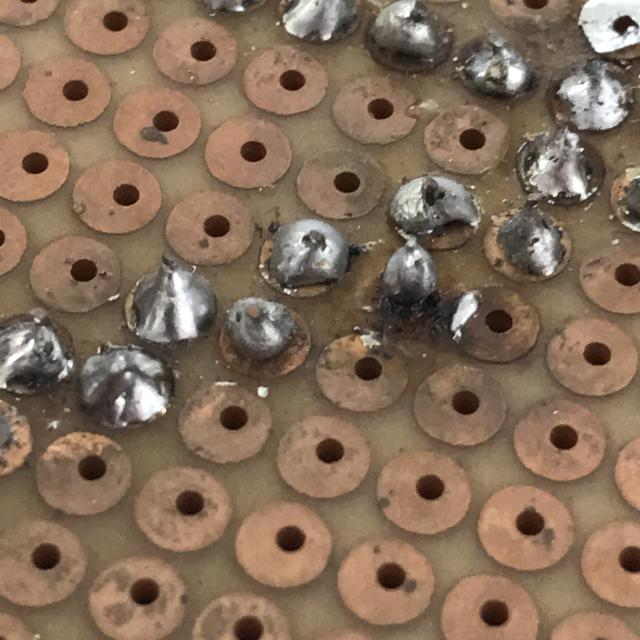good: (66, 333, 186, 441)
pad_less: (506, 120, 617, 218), (213, 288, 319, 387), (116, 259, 224, 356), (382, 166, 488, 260), (252, 213, 357, 306), (477, 198, 583, 290)
